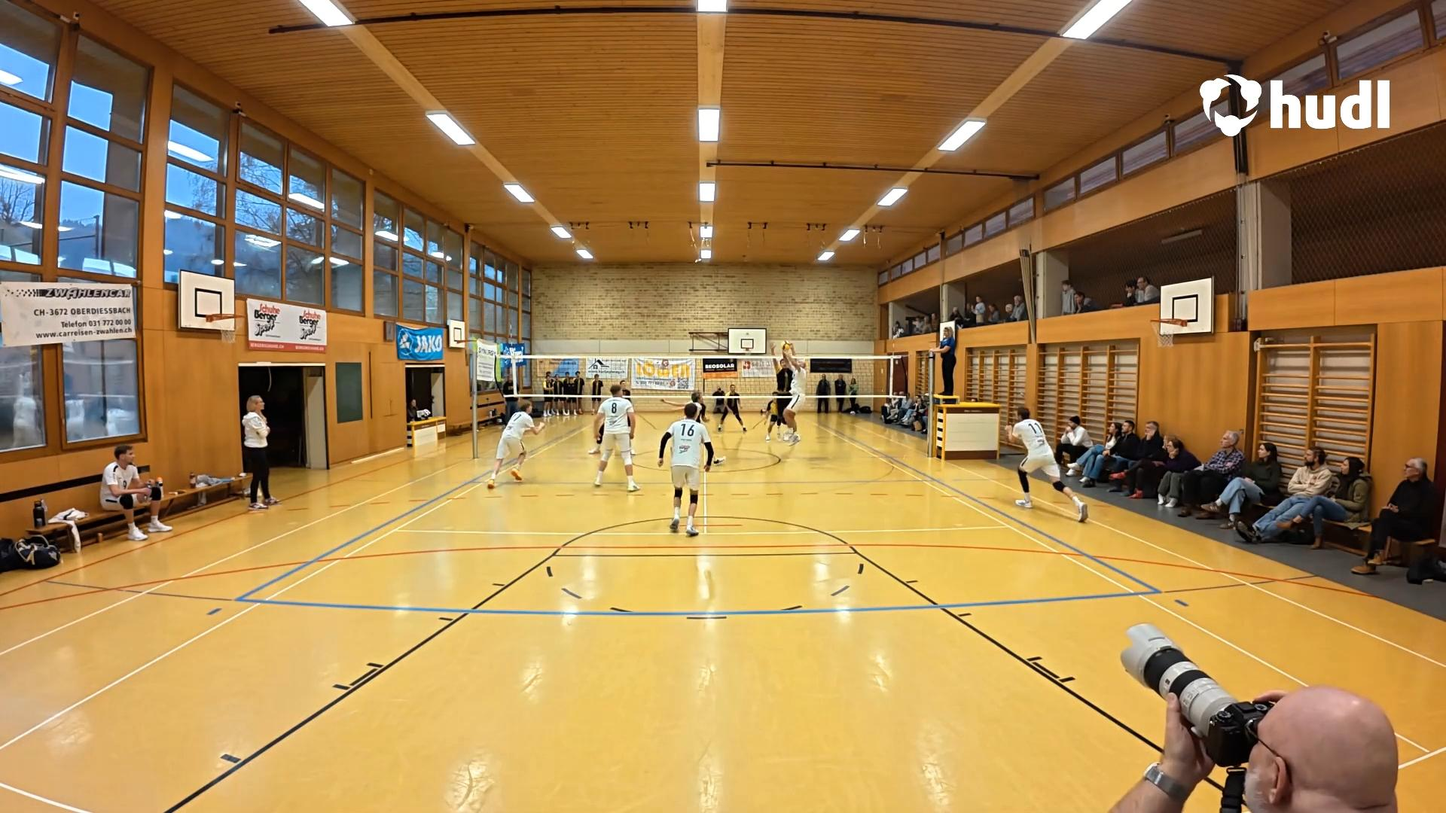alzata: (779, 346, 808, 447)
muro: (772, 329, 796, 435)
